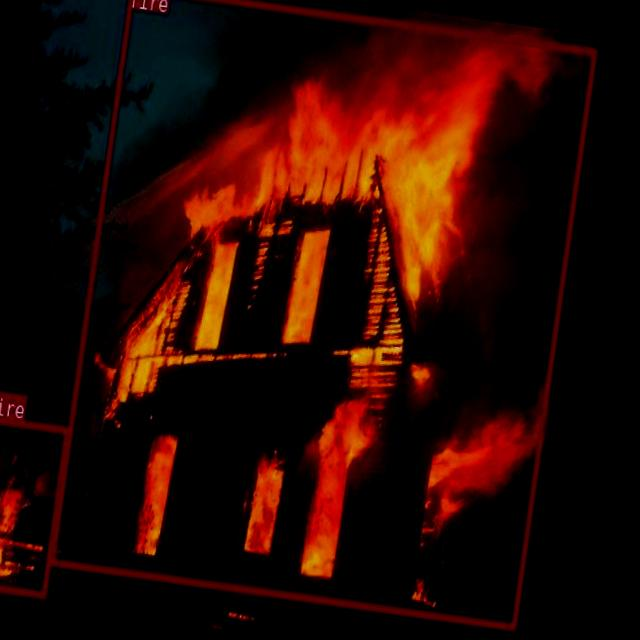fire: (48, 0, 597, 629), (0, 413, 70, 596)
